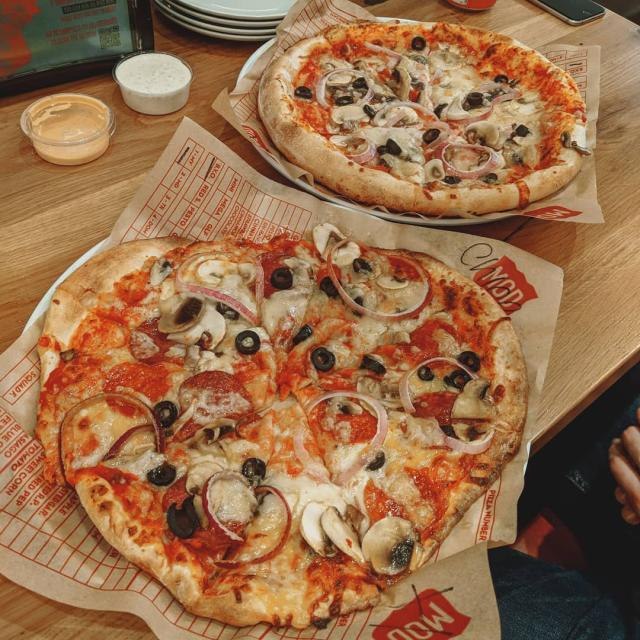black_olives: (448, 346, 482, 386), (169, 497, 200, 539), (148, 394, 181, 432), (235, 325, 265, 359), (266, 263, 296, 290), (145, 461, 175, 488), (363, 450, 391, 478), (289, 322, 315, 346), (319, 272, 340, 300), (311, 344, 332, 371), (358, 351, 384, 372), (294, 85, 317, 105), (421, 123, 441, 146), (247, 458, 267, 481), (377, 136, 398, 157), (465, 91, 486, 111), (493, 72, 511, 94), (411, 35, 429, 53), (512, 121, 528, 138), (363, 101, 378, 119), (336, 92, 352, 108), (354, 74, 368, 89)
mushrooms: (301, 496, 357, 556), (159, 290, 218, 345), (363, 509, 410, 571), (197, 254, 253, 293), (452, 372, 497, 418), (314, 222, 358, 266), (398, 153, 448, 187), (332, 103, 372, 134), (464, 118, 504, 145), (327, 58, 355, 91), (388, 102, 419, 123), (385, 64, 408, 91)
pepperoni: (361, 464, 446, 532), (181, 366, 254, 429), (106, 359, 170, 417), (129, 311, 190, 365), (254, 247, 308, 300), (404, 321, 461, 368), (409, 388, 459, 425)
pizza: (34, 228, 527, 640), (257, 24, 588, 219)
